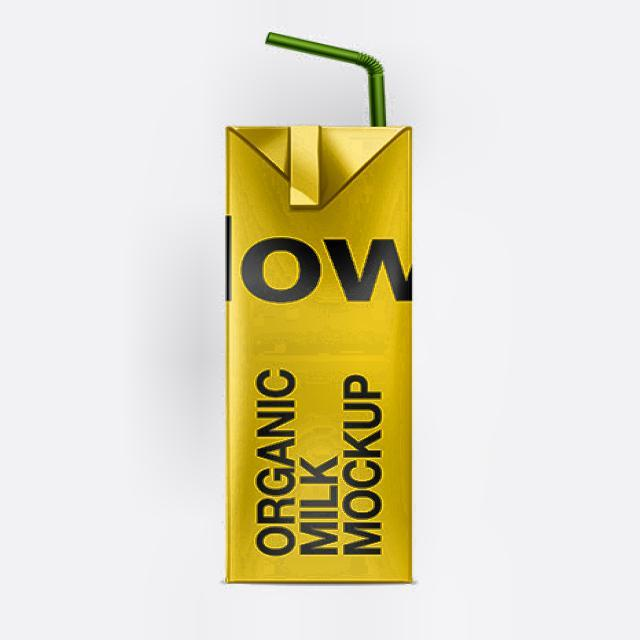cardboard: (222, 123, 414, 582)
